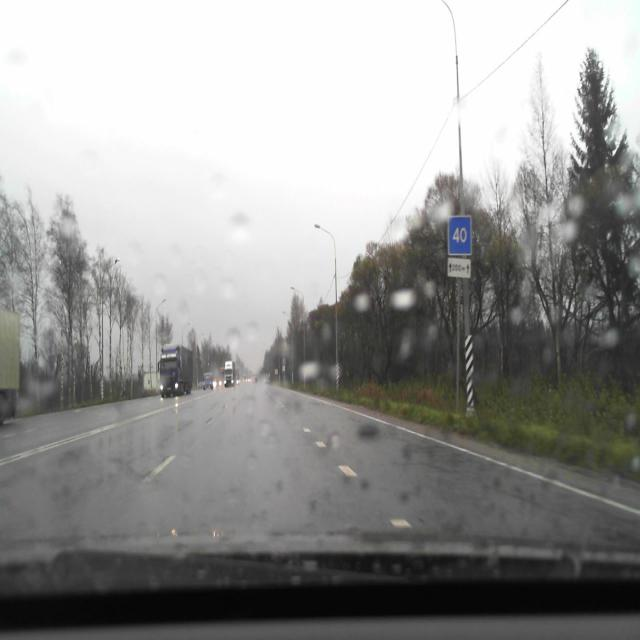road sign: (448, 215, 472, 255), (447, 257, 471, 278)
